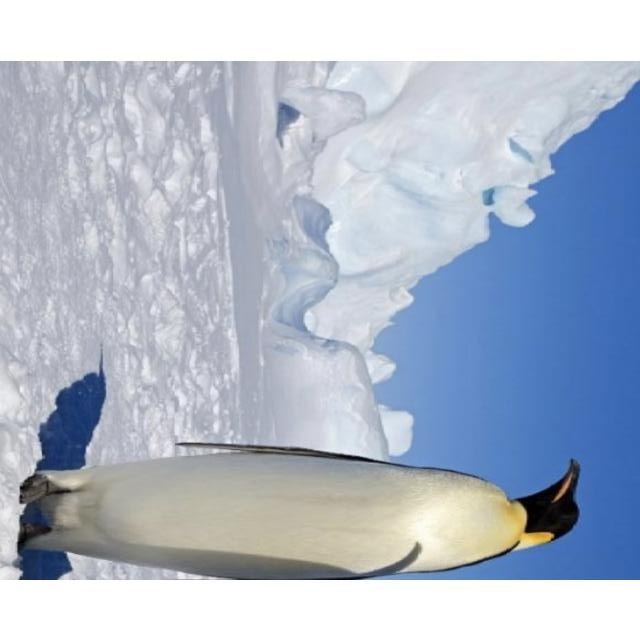penguin: (17, 441, 580, 579)
